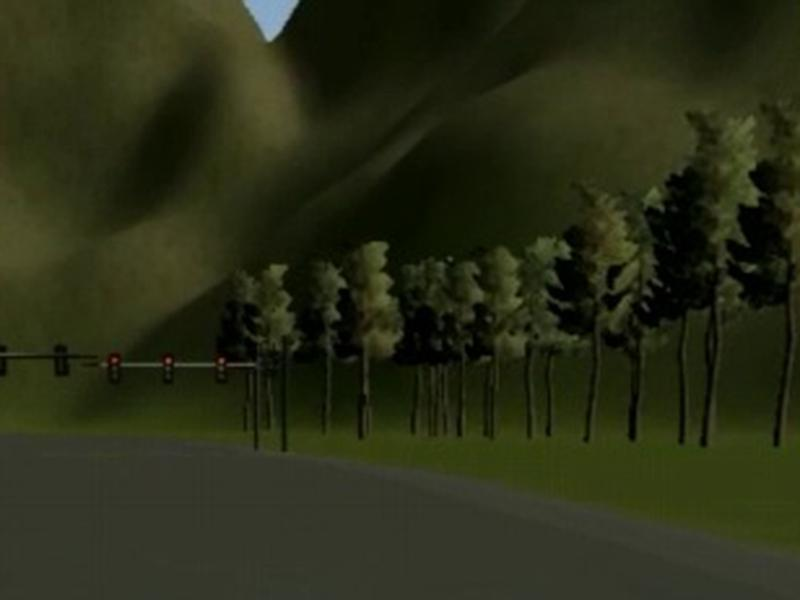Red: (107, 352, 122, 386), (162, 351, 174, 385), (216, 354, 229, 385)
